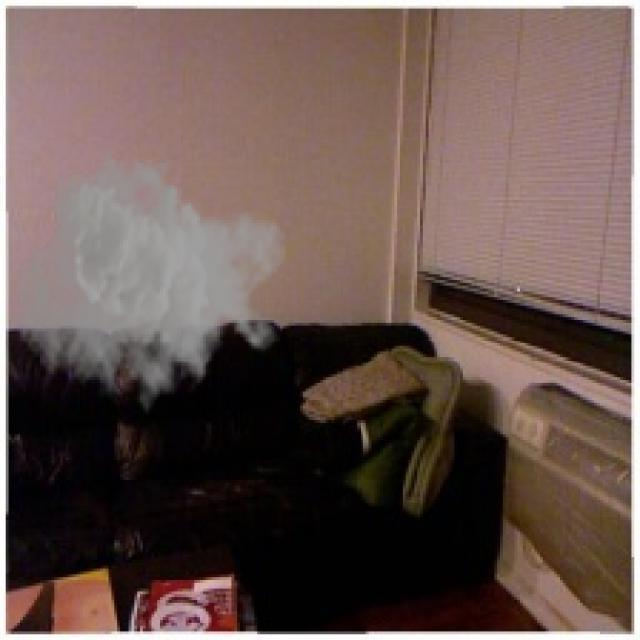Smoke: (12, 146, 288, 423)
